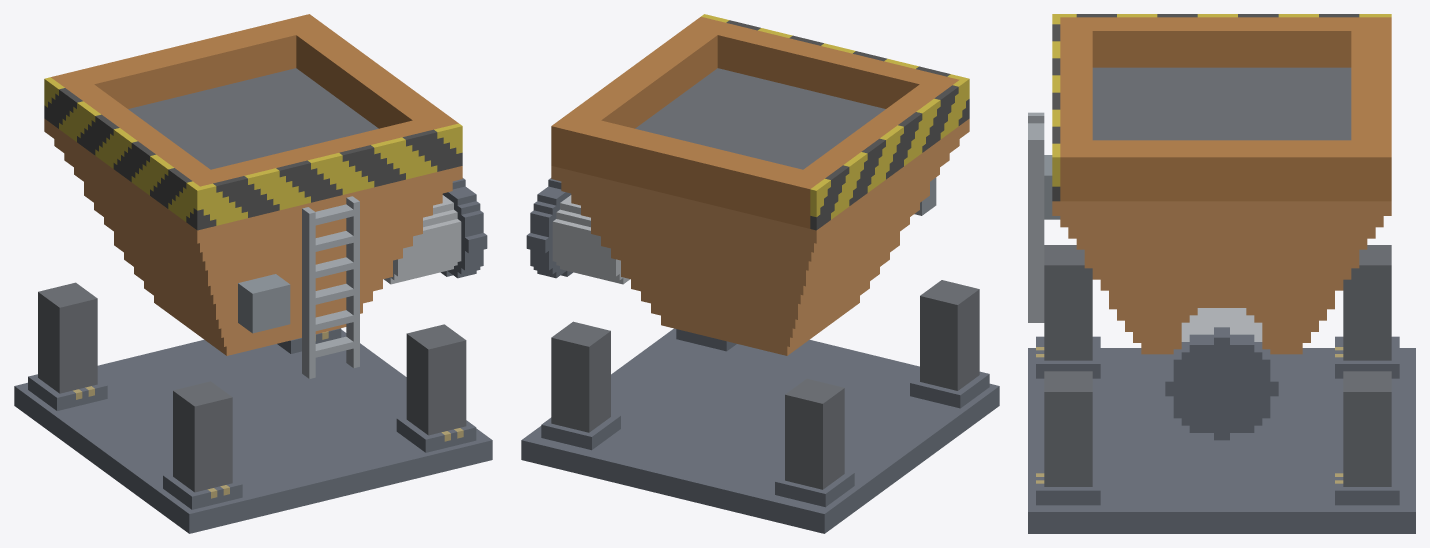
Rendered from conveyor_hopper.glb.
3 views of the same model, side by side, from view 1: azimuth 30°, elevation 25°; view 2: azimuth 150°, elevation 25°; view 3: azimuth 270°, elevation 25° (orthographic). The views are drawn at different scales.
Visible parts, largest first — view 1: conveyor_hopper; view 2: conveyor_hopper; view 3: conveyor_hopper.
Boxes of the visible parts, x1,y1,x2,y2 form: conveyor_hopper: (14, 14, 492, 533); conveyor_hopper: (521, 14, 999, 533); conveyor_hopper: (1028, 14, 1415, 533).
Size of the model in its own units: 1.78 by 1.56 by 1.5.
